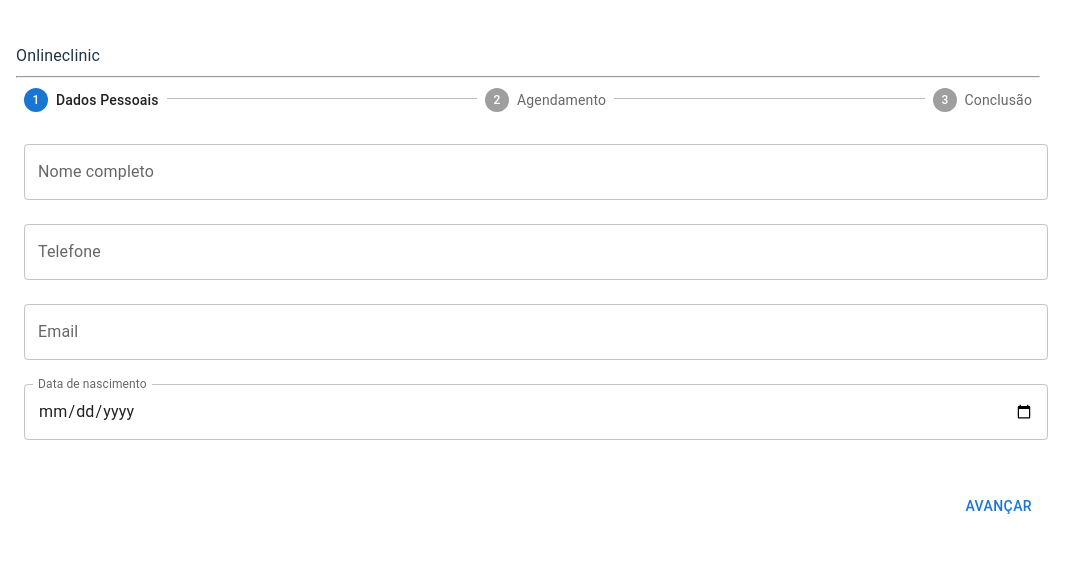
it: App: faixa etaria (OLC-1028) › quem nao cabe na faixa em nenhum dia da agenda para nos dados pessoais
Type "2000-01-01" into the date field labelled "Data de nascimento" at (536, 412), box x1=24 y1=384 x2=1048 y2=440
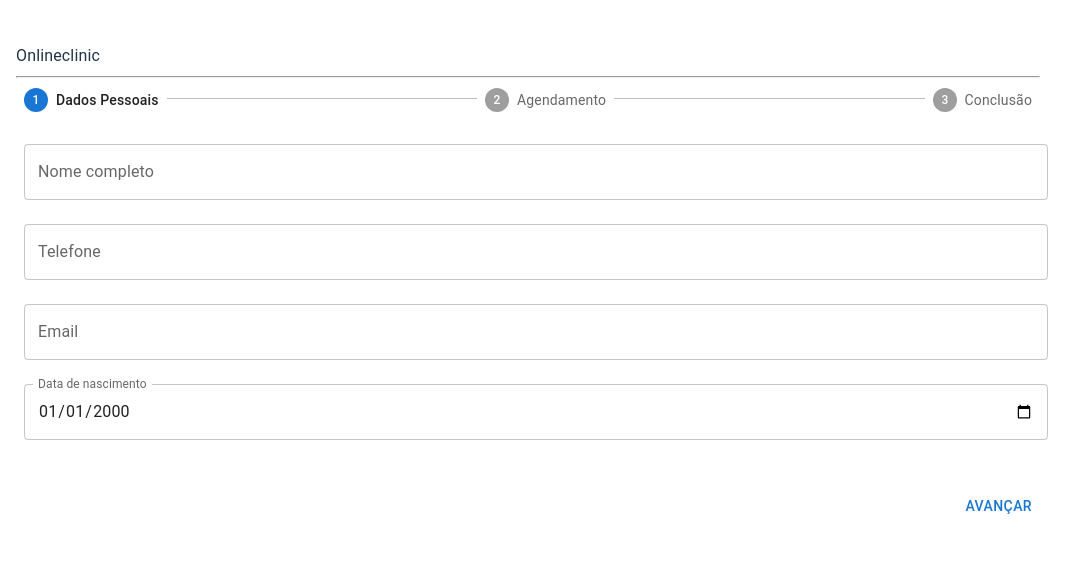
Click the button "Avançar" at (999, 506), box x1=957 y1=488 x2=1040 y2=524
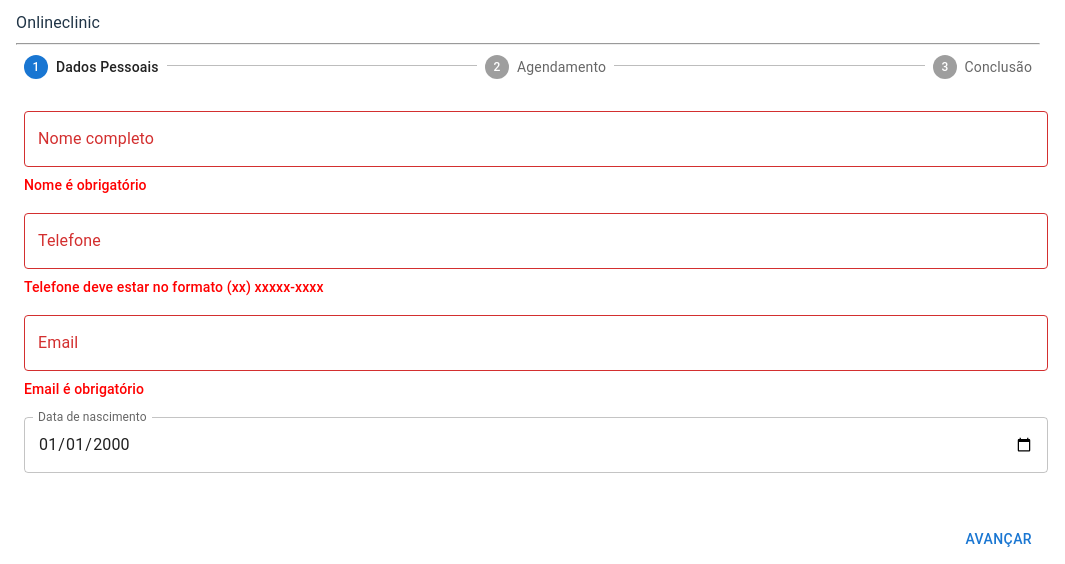
Check: the date field labelled "Data de nascimento" is shown, box x1=24 y1=417 x2=1048 y2=473
